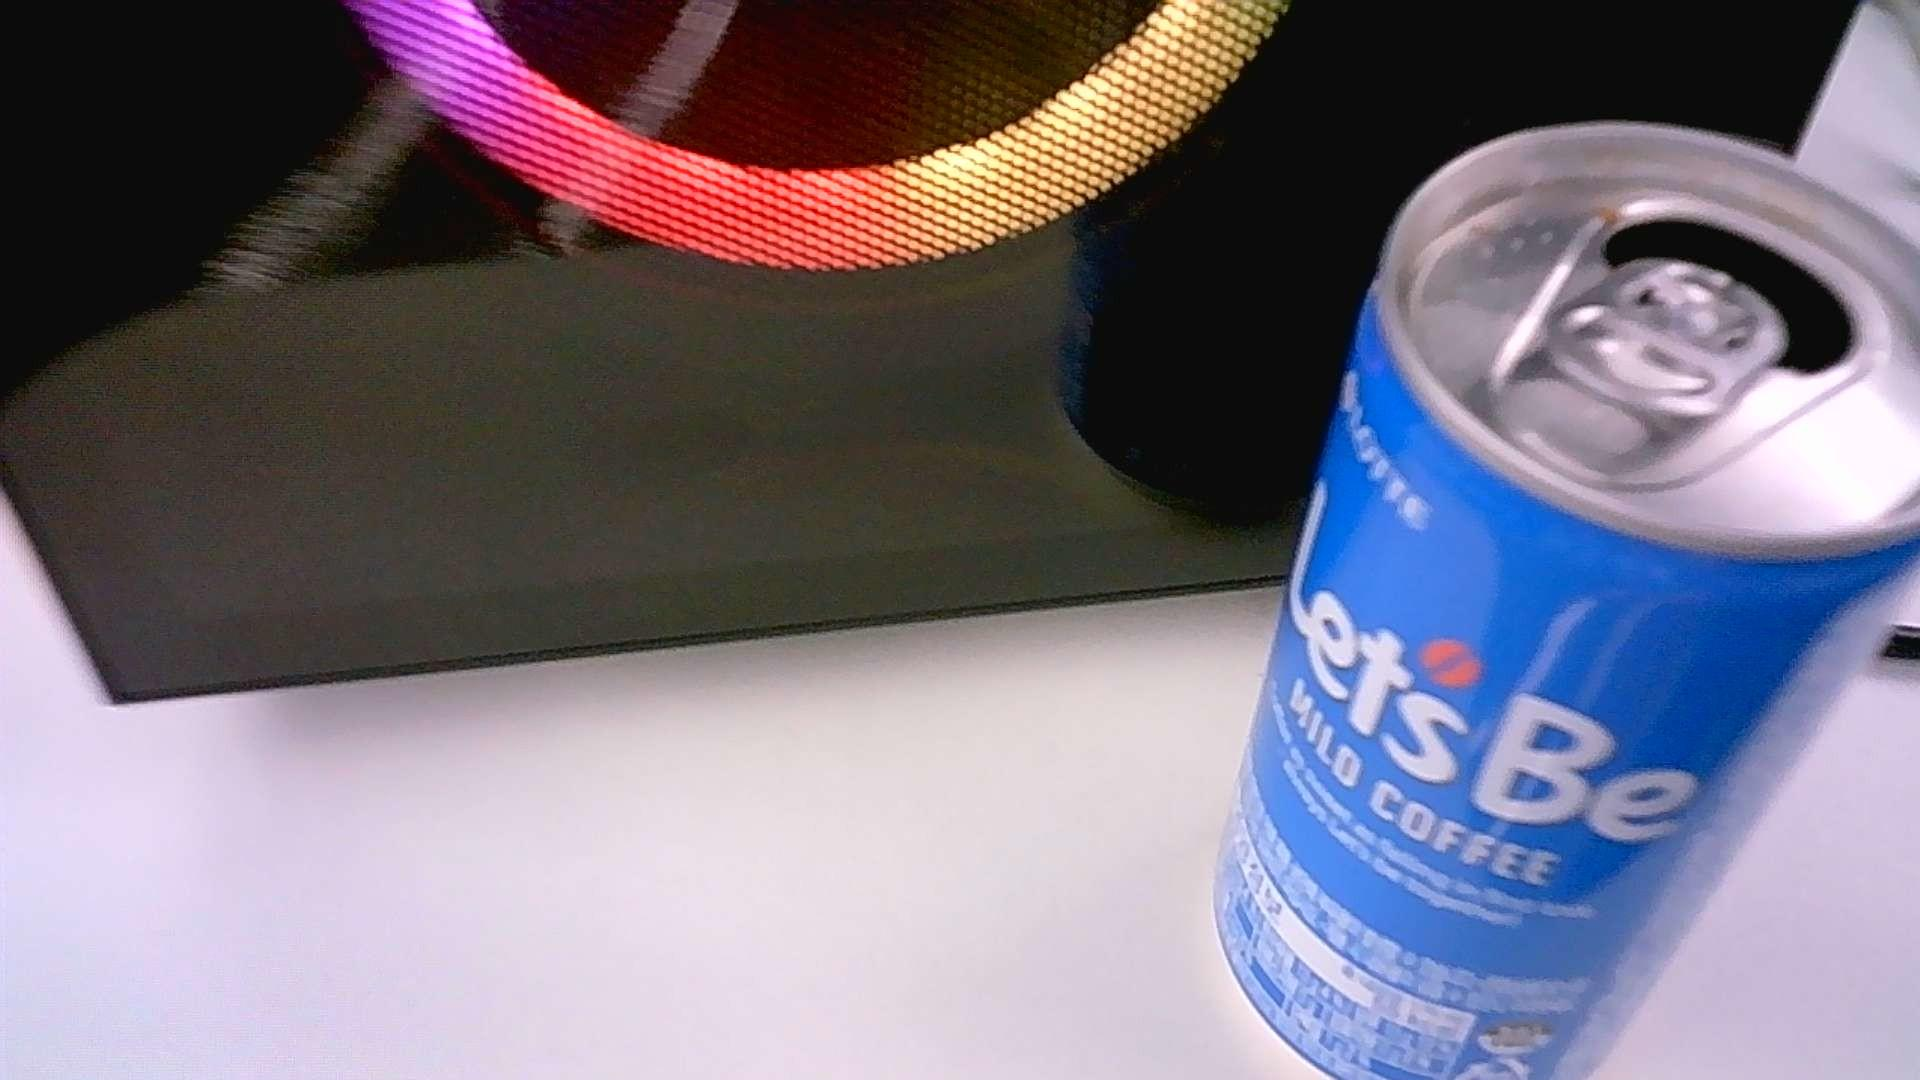letsbe: (1209, 119, 1920, 1080)
